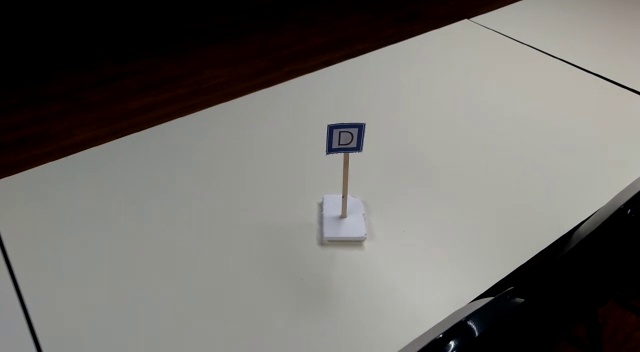durak: (325, 122, 366, 155)
